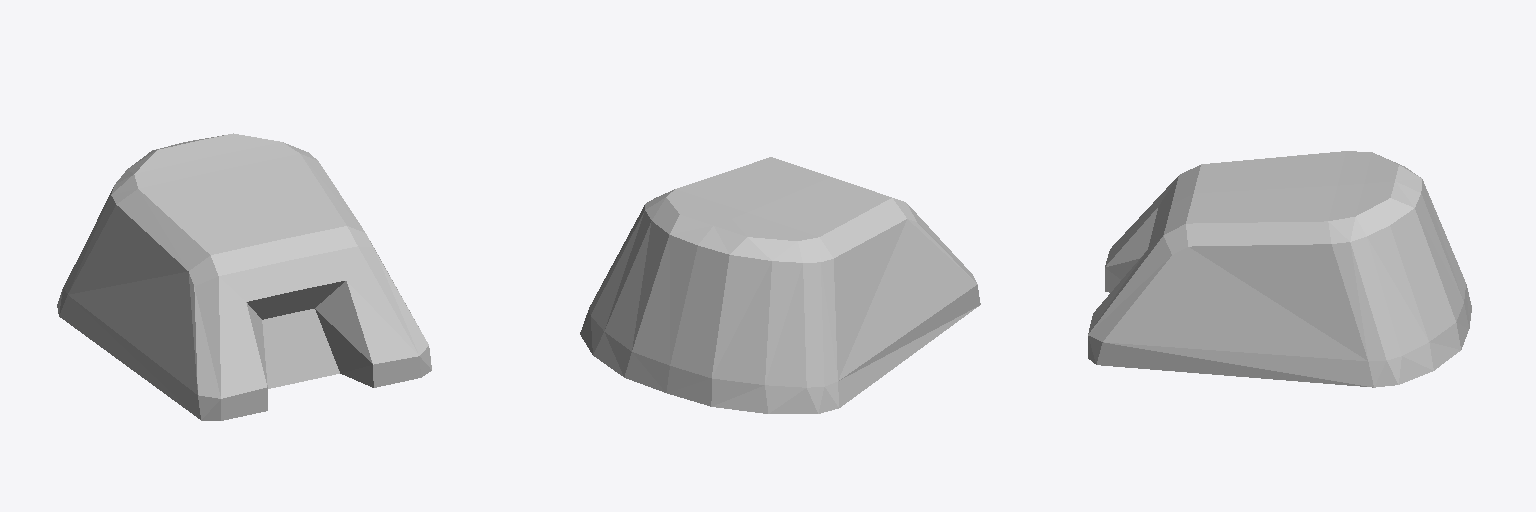
Rendered from turret0.obj.
3 views of the same model, side by side, from view 1: azimuth 30°, elevation 25°; view 2: azimuth 150°, elevation 25°; view 3: azimuth 270°, elevation 25° (orthographic).
Visible parts, largest first — view 1: Tai_SupportFrigateGun; view 2: Tai_SupportFrigateGun; view 3: Tai_SupportFrigateGun.
Part boxes in pixels (bbox=[...]): Tai_SupportFrigateGun: bbox=[57, 133, 431, 420]; Tai_SupportFrigateGun: bbox=[580, 157, 980, 413]; Tai_SupportFrigateGun: bbox=[1088, 151, 1471, 387].
Bounding box in the file's own units: 9.19 × 4.85 × 11.4.